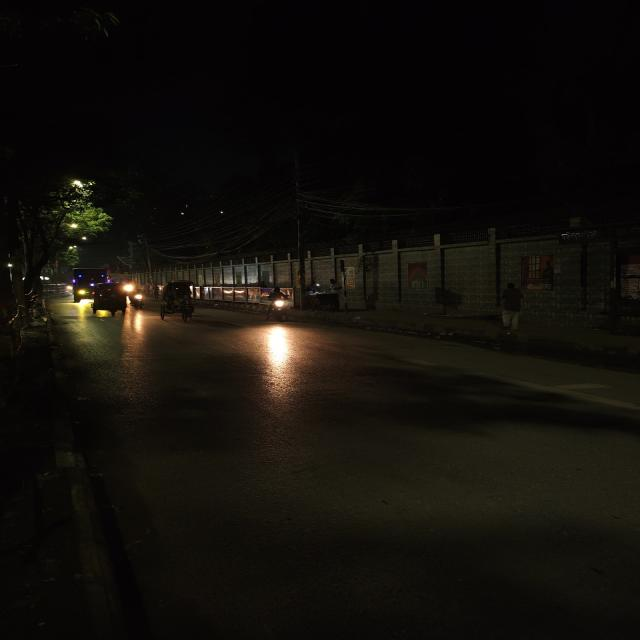cng: (86, 284, 134, 320)
motorcycle: (257, 287, 296, 323), (129, 288, 145, 312)
pedestrian: (490, 279, 532, 338)
rickshaw: (155, 280, 202, 324)
truck: (67, 266, 104, 300)
